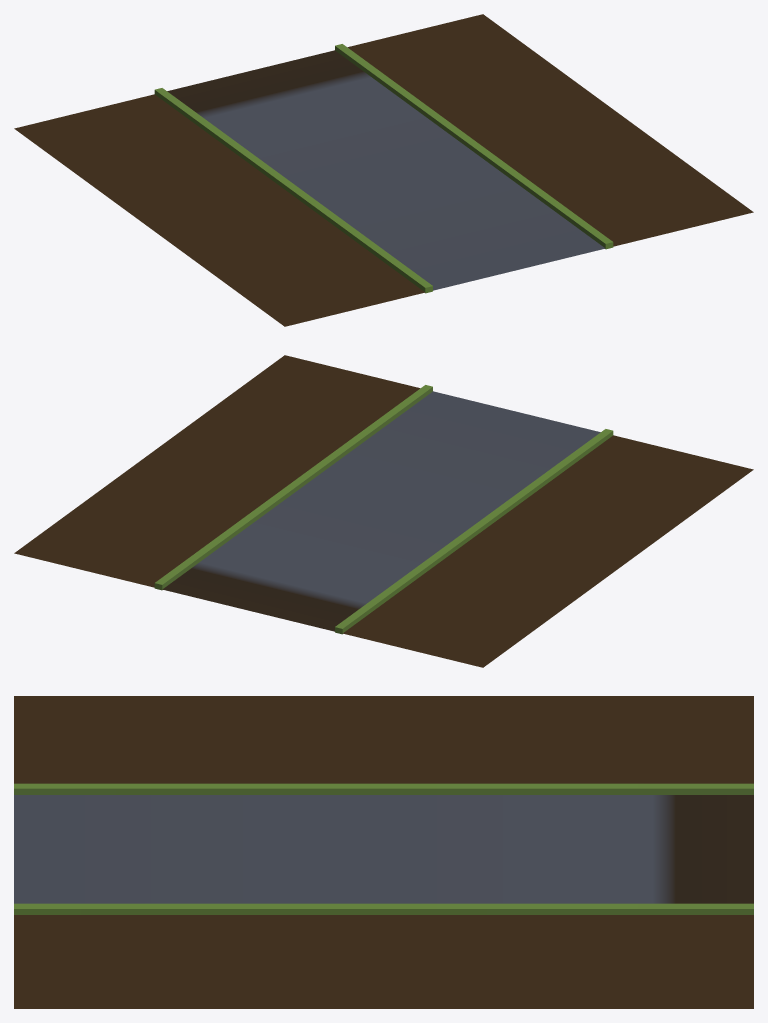
Rendered from Tile_11.fbx.
The picture shows the model from 3 angles, top to bottom: view 1: azimuth 30°, elevation 25°; view 2: azimuth 150°, elevation 25°; view 3: azimuth 270°, elevation 25°; orthographic projection. The views are drawn at different scales.
Parts seen in each view (by area): view 1: Tile_11; view 2: Tile_11; view 3: Tile_11.
Boxes of the visible parts, <box> form: Tile_11: <box>14,14,753,326</box>; Tile_11: <box>14,355,753,667</box>; Tile_11: <box>14,696,753,1008</box>.
Bounding box in the file's own units: 3 × 0.0337 × 3.
